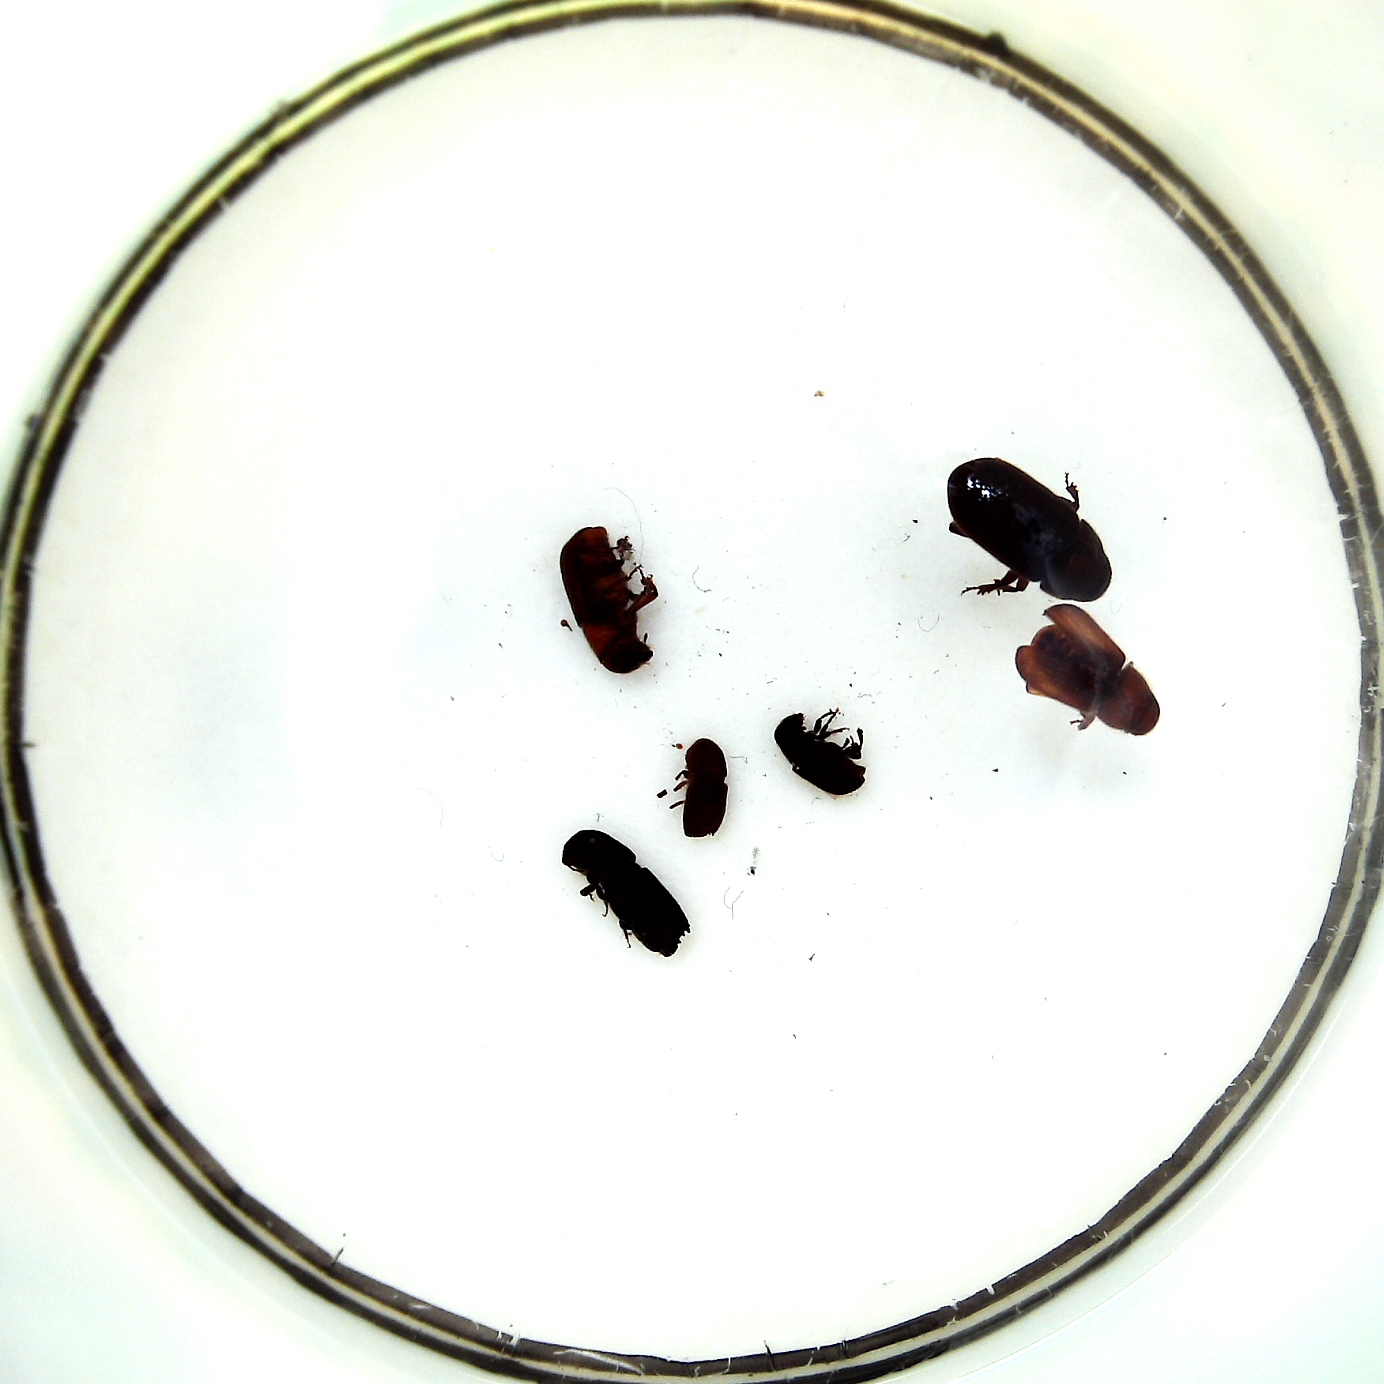Leconte: (948, 458, 1112, 603), (1014, 605, 1160, 736), (560, 526, 653, 673)
armandi: (774, 714, 866, 795)
linnaeus: (563, 831, 691, 958), (682, 739, 729, 839)
